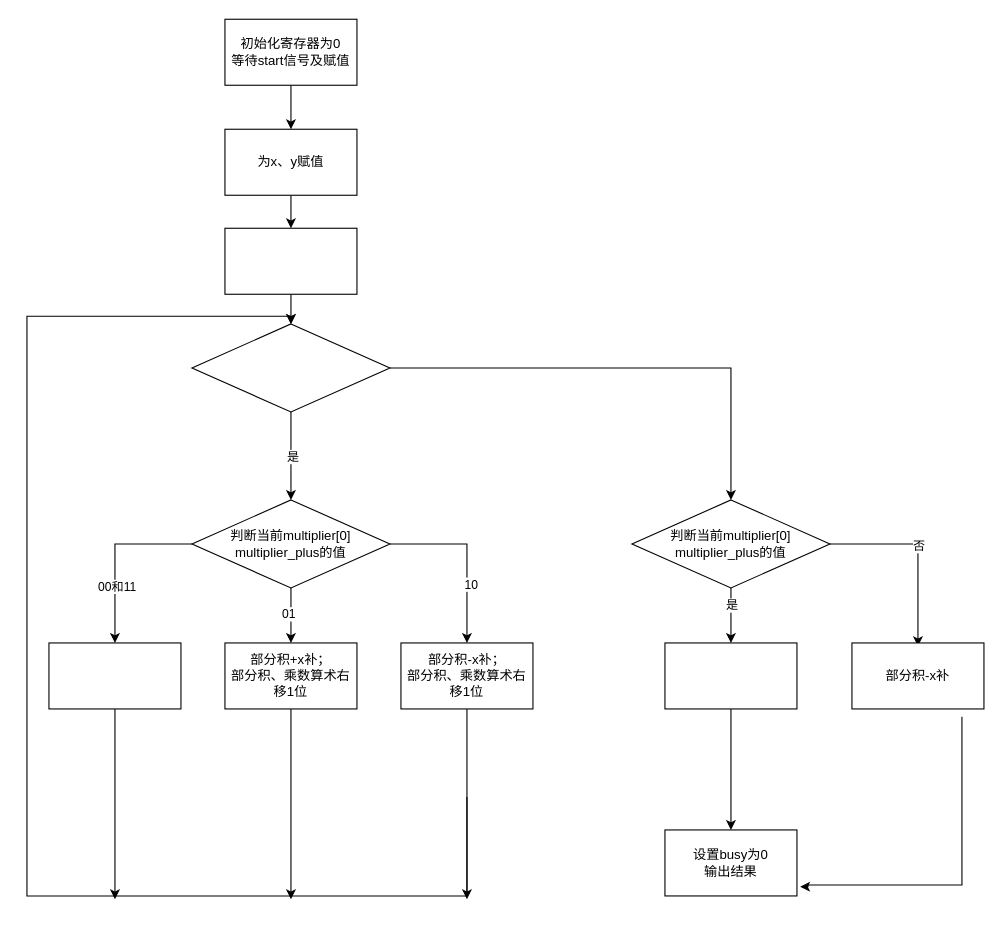
This 1003x927 diagram has some shape labels left out. Here are the shapes that lost their labels. From the top down, the centre of each, then its label:
the point at 290,260: 余数+ -[y*]补
the point at 290,367: 移位次数是否小于数据位宽？
the point at 114,675: 部分积、乘数算术右移1位
the point at 730,675: 部分积+x补；
